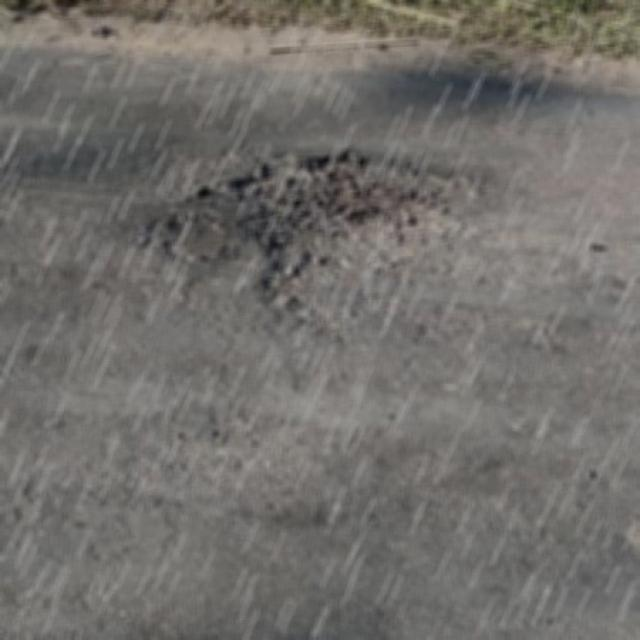road-pothole: (159, 144, 504, 329)
